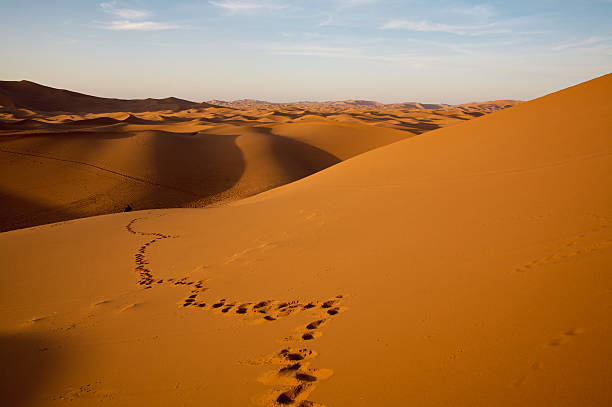animal_foot_print: (126, 218, 343, 343), (257, 295, 343, 405), (515, 215, 611, 272), (543, 327, 582, 348)
